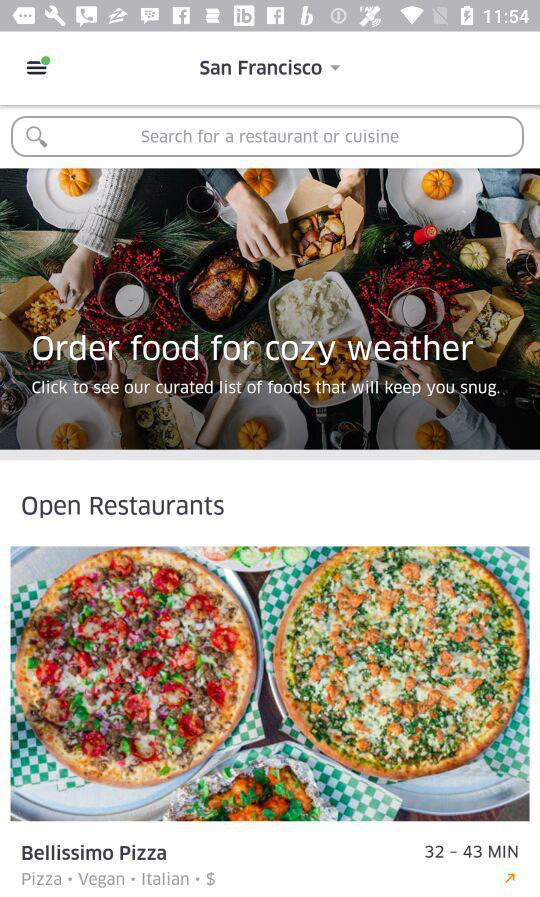EditText: (12, 116, 525, 159)
Icon: (27, 126, 49, 150), (27, 56, 52, 77)
Image: (1, 169, 540, 451), (11, 546, 530, 822)
Text: (33, 335, 474, 367), (33, 380, 501, 397), (22, 497, 225, 519), (142, 129, 399, 144), (22, 871, 216, 889), (22, 844, 168, 861), (200, 60, 323, 77), (425, 845, 519, 859)
Toolbar: (1, 33, 540, 106)
UpperTaskBar: (1, 1, 540, 33)
